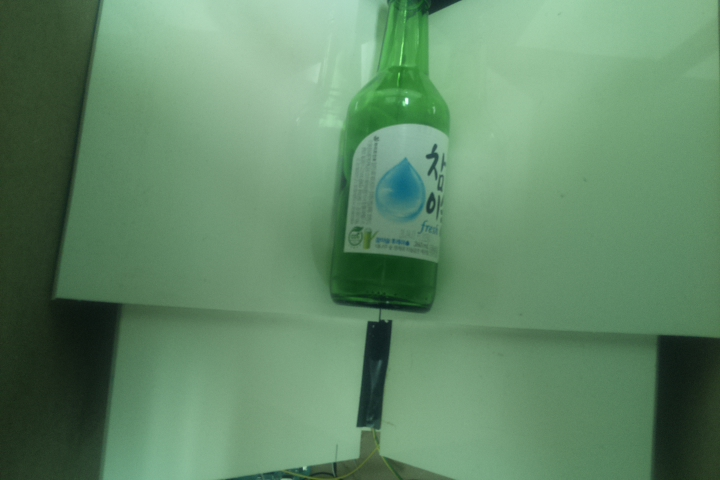soju: (328, 1, 453, 314)
